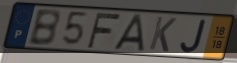5: (61, 11, 89, 49)
A: (112, 13, 145, 52)
B: (26, 8, 62, 48)
F: (85, 11, 123, 49)
J: (179, 18, 208, 55)
K: (147, 15, 178, 54)
